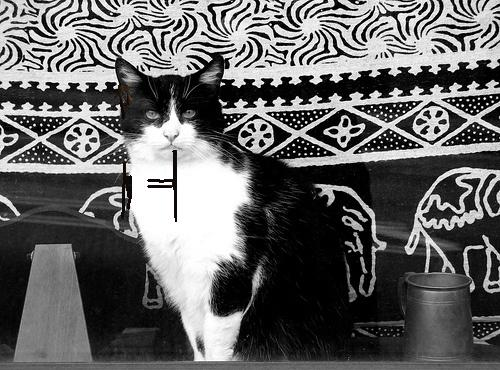tampered: (119, 85, 177, 222)
